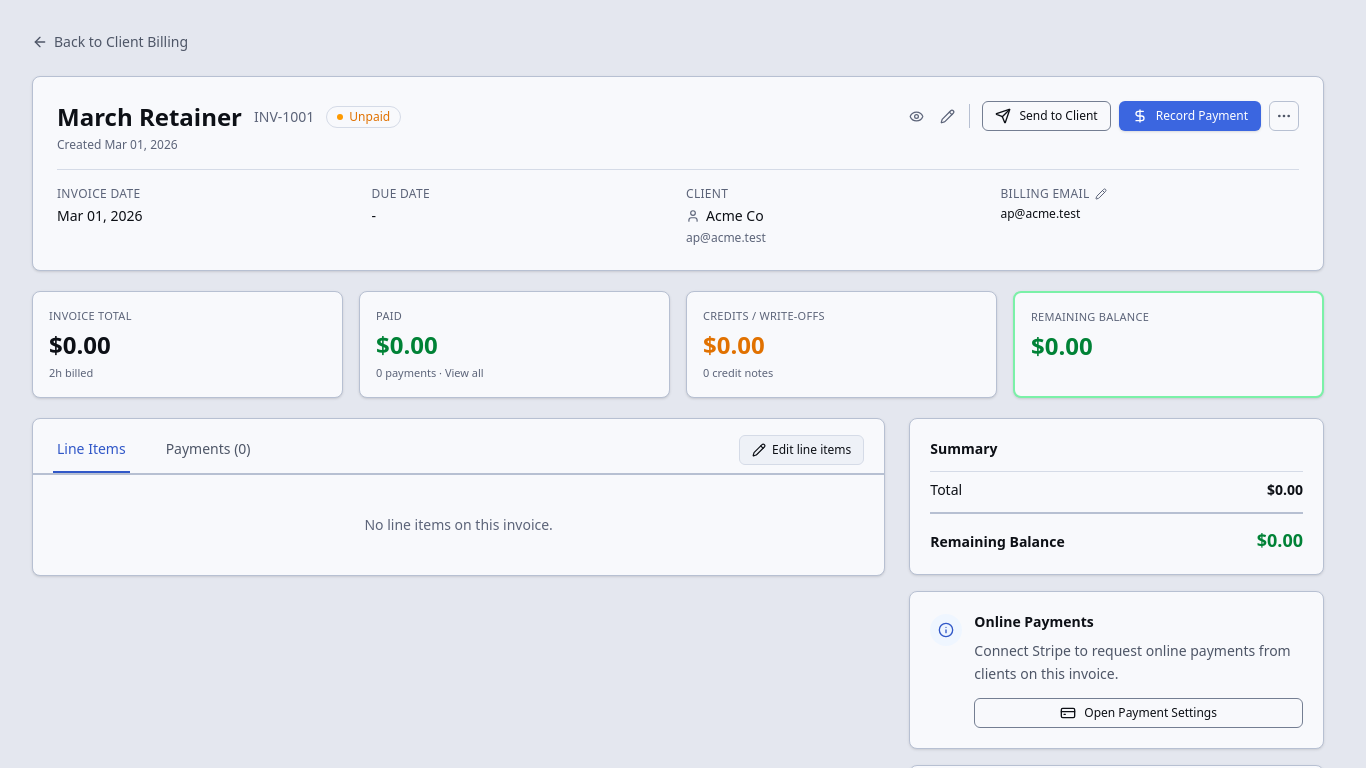
Test: a meaningful empty state › says there are no line items and no payments, rather than leaving the tabs blank
Check: the heading "March Retainer" is shown, box 57,101 -> 242,133
Check: the text "No line items on this invoice." is shown, box 364,515 -> 553,534
Click the button "Payments (0)": coordinates (208, 450) 162,427 -> 254,473
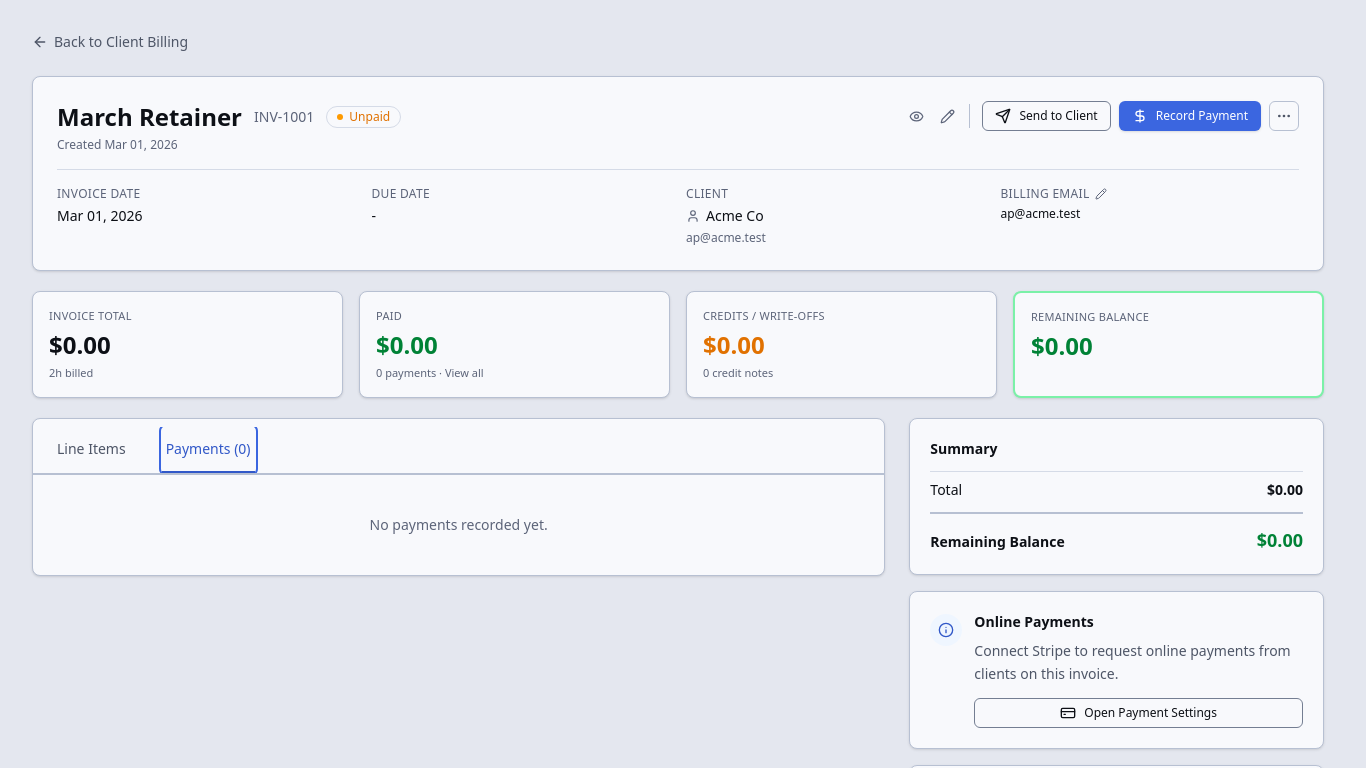
Check: the text "No payments recorded yet." is shown, box 370,515 -> 548,534
